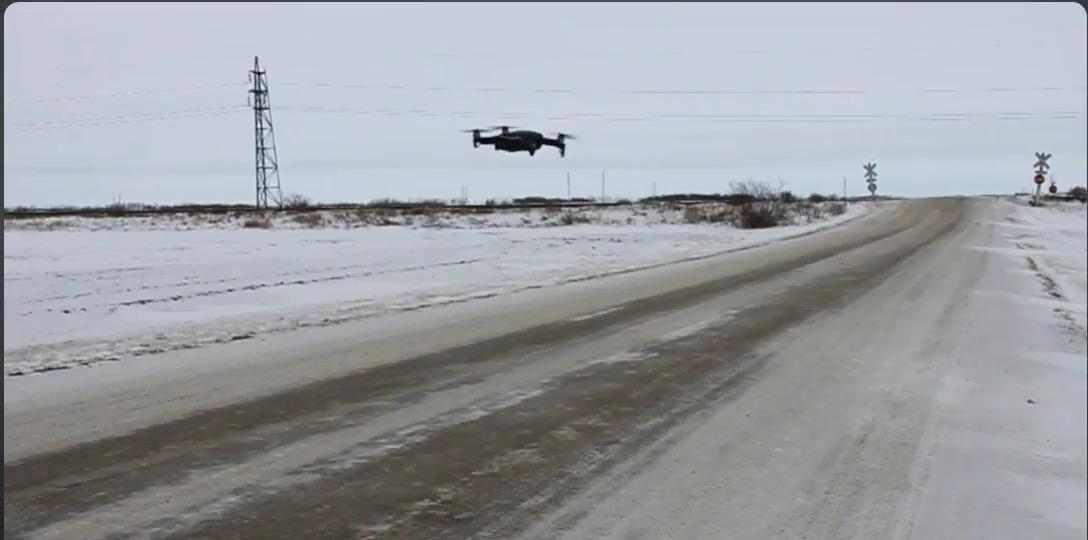dr: (452, 97, 576, 202)
